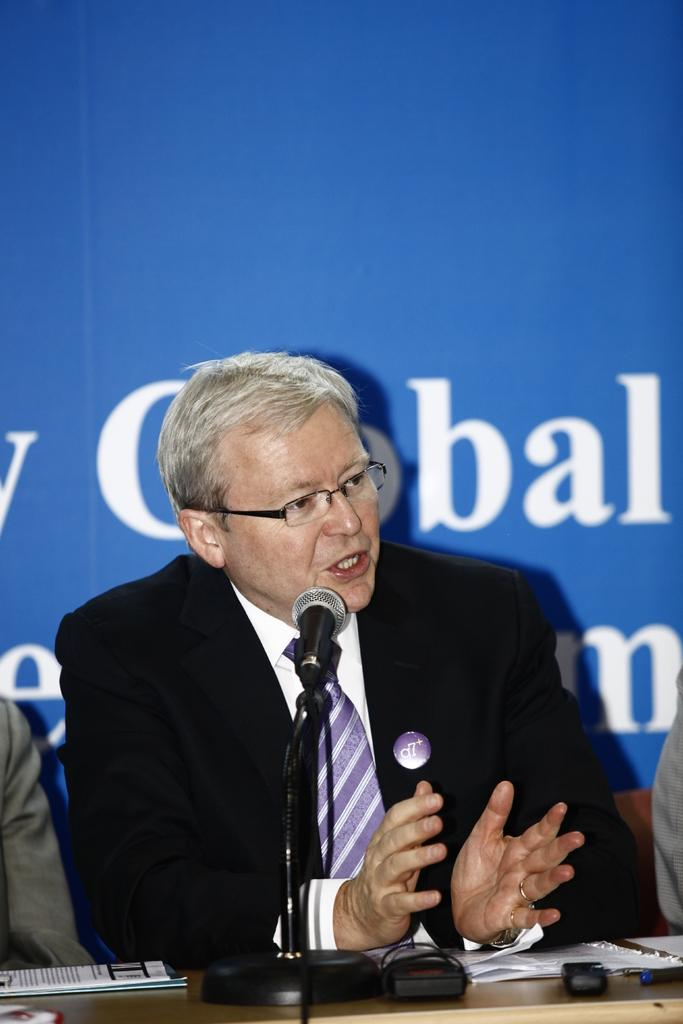no_helmet: (220, 350, 360, 460)
none: (176, 596, 503, 984)
